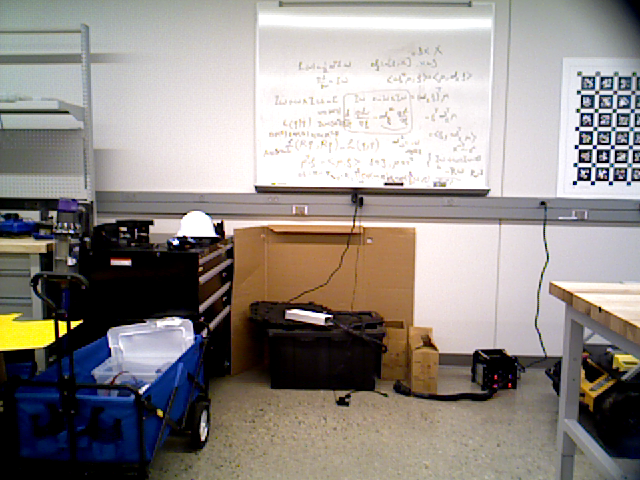painting4: (561, 53, 640, 198)
